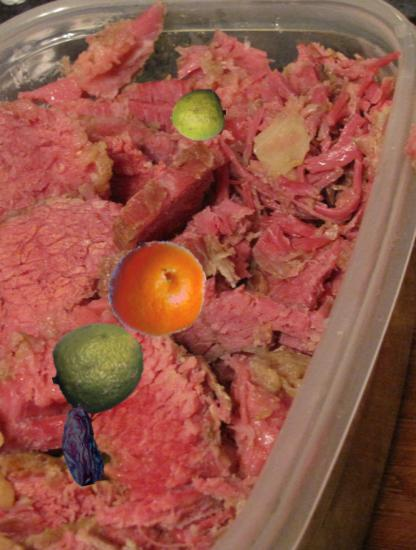Dates: (40, 405, 121, 486)
Limes: (51, 319, 148, 416), (170, 87, 226, 143)
Tangelo: (107, 238, 208, 339)
